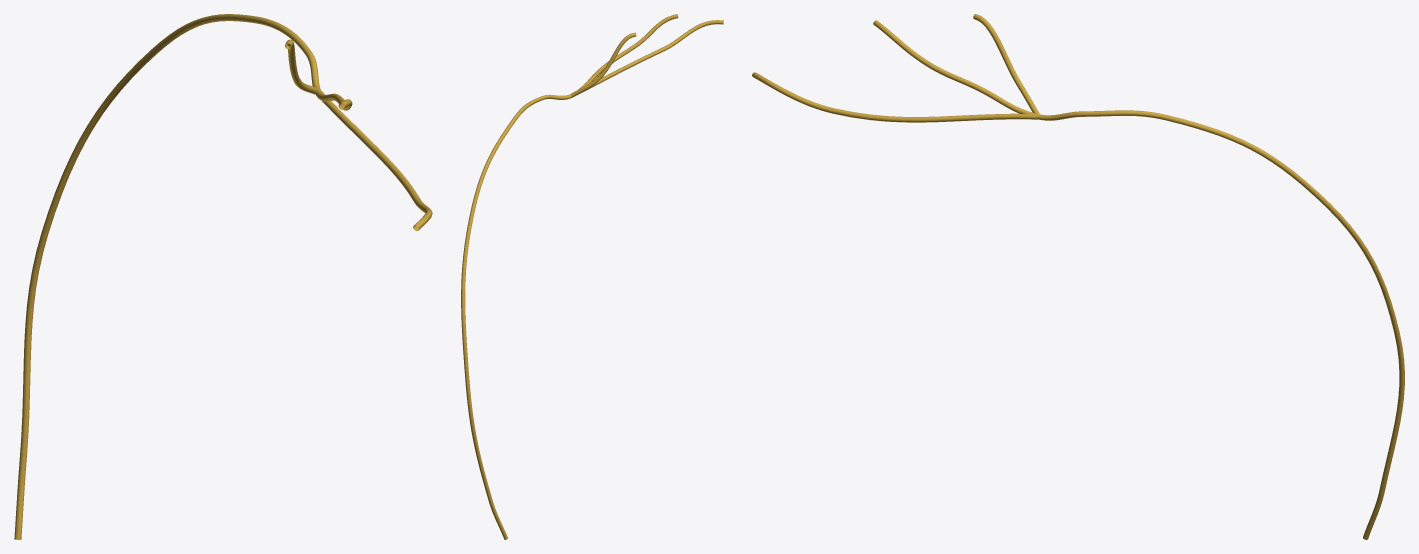
The picture shows the model from 3 angles, left to right: view 1: azimuth 30°, elevation 25°; view 2: azimuth 150°, elevation 25°; view 3: azimuth 270°, elevation 25°; orthographic projection. The views are drawn at different scales.
Visible parts, largest first — view 1: 左侧阴部神经; view 2: 左侧阴部神经; view 3: 左侧阴部神经.
Boxes of the visible parts, left/top/right/bottom form: 左侧阴部神经: left=14, top=14, right=432, bottom=539; 左侧阴部神经: left=461, top=14, right=723, bottom=539; 左侧阴部神经: left=752, top=14, right=1404, bottom=539.
Bounding box in the file's own units: 0.03 × 0.1548 × 0.1712.
